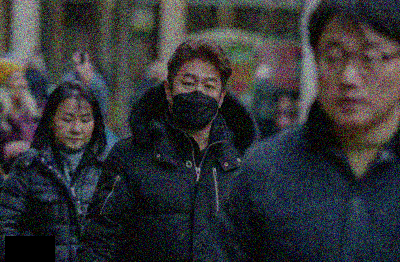with_mask: (171, 70, 225, 130)
without_mask: (315, 34, 400, 130), (53, 108, 96, 149)
